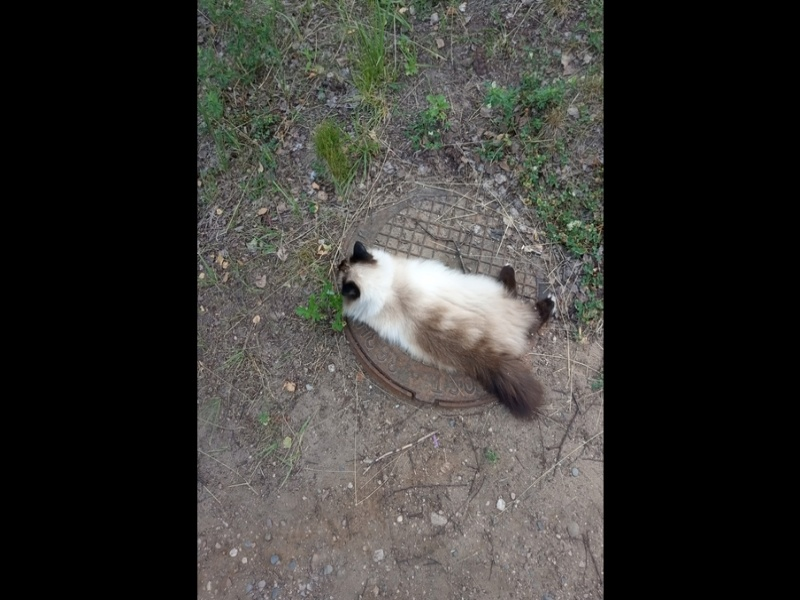cat: (332, 226, 564, 409)
